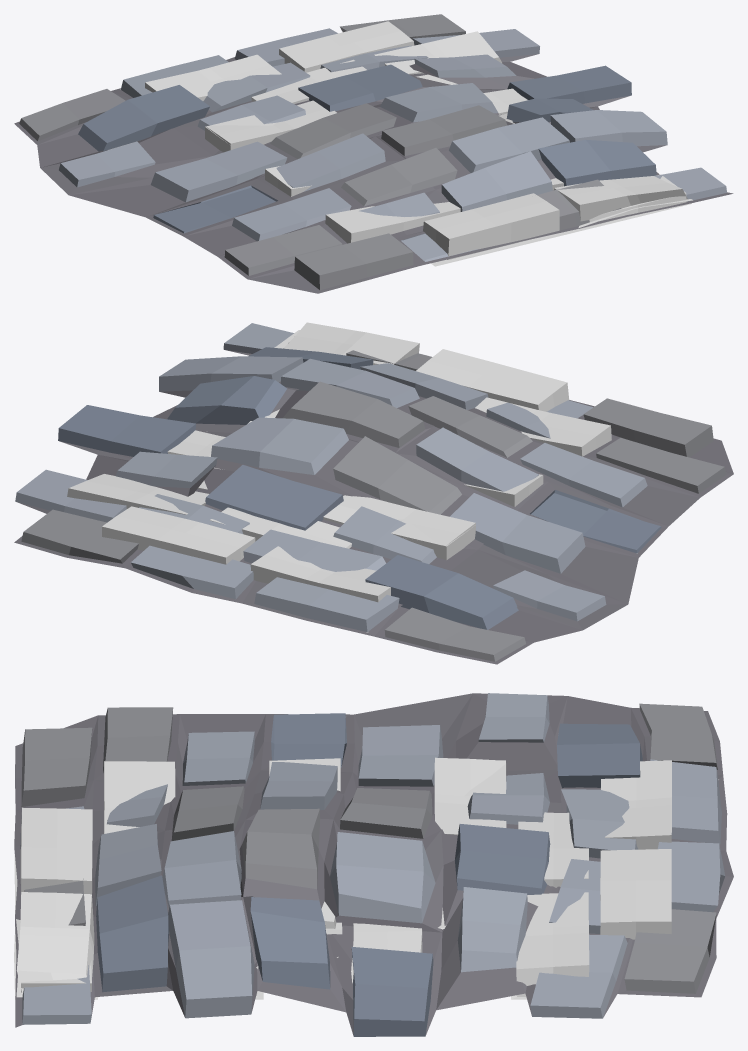
File: Bricks.fbx
The picture shows the model from 3 angles, top to bottom: view 1: azimuth 30°, elevation 25°; view 2: azimuth 150°, elevation 25°; view 3: azimuth 270°, elevation 25°; orthographic projection. The views are drawn at different scales.
Visible parts, largest first — view 1: bricks.000, bricks.002, bricks.003; view 2: bricks.000, bricks.002, bricks.003; view 3: bricks.000, bricks.002, bricks.003.
Part boxes in pixels (box(x1,y1,x2,y2)): bricks.000: box(14, 14, 733, 293); bricks.002: box(145, 21, 692, 265); bricks.003: box(205, 113, 691, 230); bricks.000: box(14, 323, 733, 664); bricks.002: box(67, 322, 611, 602); bricks.003: box(248, 330, 475, 560); bricks.000: box(14, 693, 733, 1036); bricks.002: box(14, 757, 671, 999); bricks.003: box(14, 760, 506, 999).
Size of the model in its own units: 500 by 45.67 by 435.
Materials: 1 (1 with a texture image).
